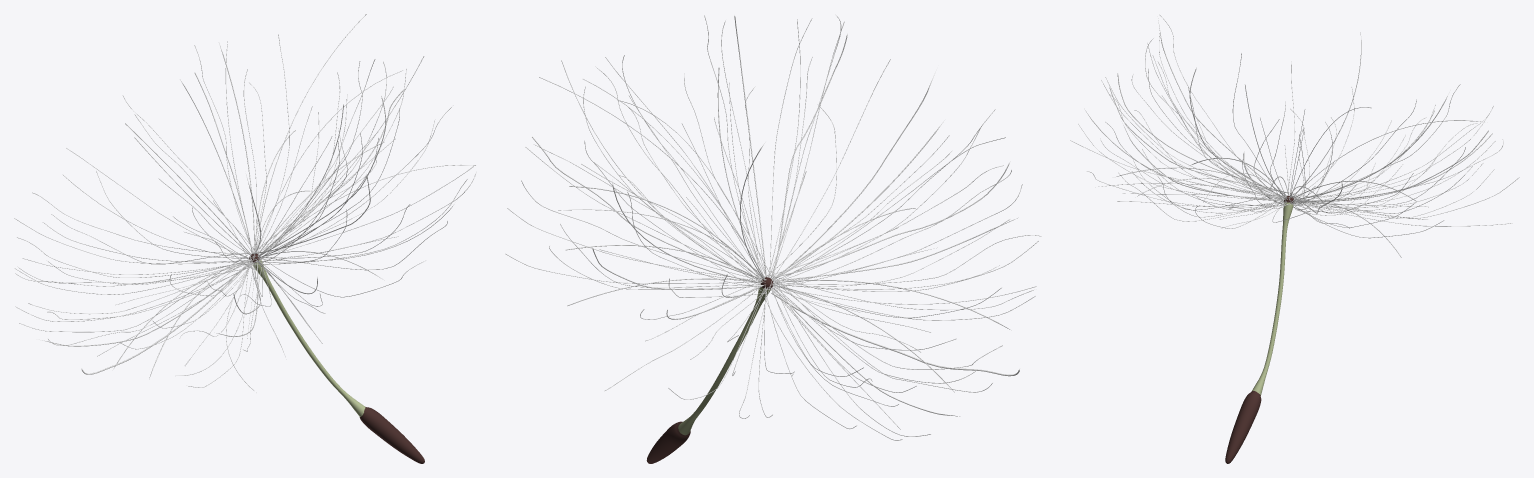
File: seed_color.glb
3 renders of one model, left to right at view 1: azimuth 30°, elevation 25°; view 2: azimuth 150°, elevation 25°; view 3: azimuth 270°, elevation 25°, orthographic. The views are drawn at different scales.
Visible parts, largest first — view 1: Sphere002, Cylinder001; view 2: Cylinder001, Sphere002; view 3: Sphere002, Cylinder001.
Boxes of the visible parts, x1,y1,x2,y2 form: Sphere002: (359,407,424,463); Cylinder001: (252,260,365,416); Cylinder001: (678,287,770,435); Sphere002: (646,421,690,463); Sphere002: (1225,391,1261,463); Cylinder001: (1252,202,1293,395).
Bounding box in the file's own units: 10.65 × 10.44 × 11.02.
